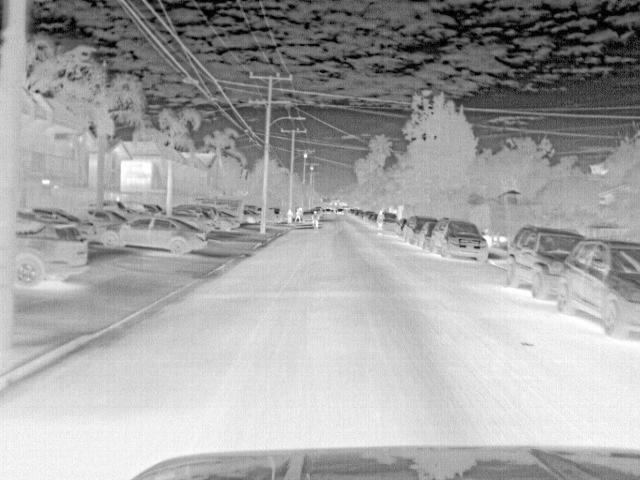car: (557, 238, 640, 345), (504, 228, 587, 302), (101, 214, 207, 255), (13, 236, 90, 287), (430, 218, 493, 266), (83, 207, 126, 242), (400, 214, 439, 244), (213, 208, 243, 230), (416, 222, 438, 250), (242, 209, 261, 224)
person: (374, 207, 387, 233), (310, 209, 322, 230), (285, 206, 295, 226)
